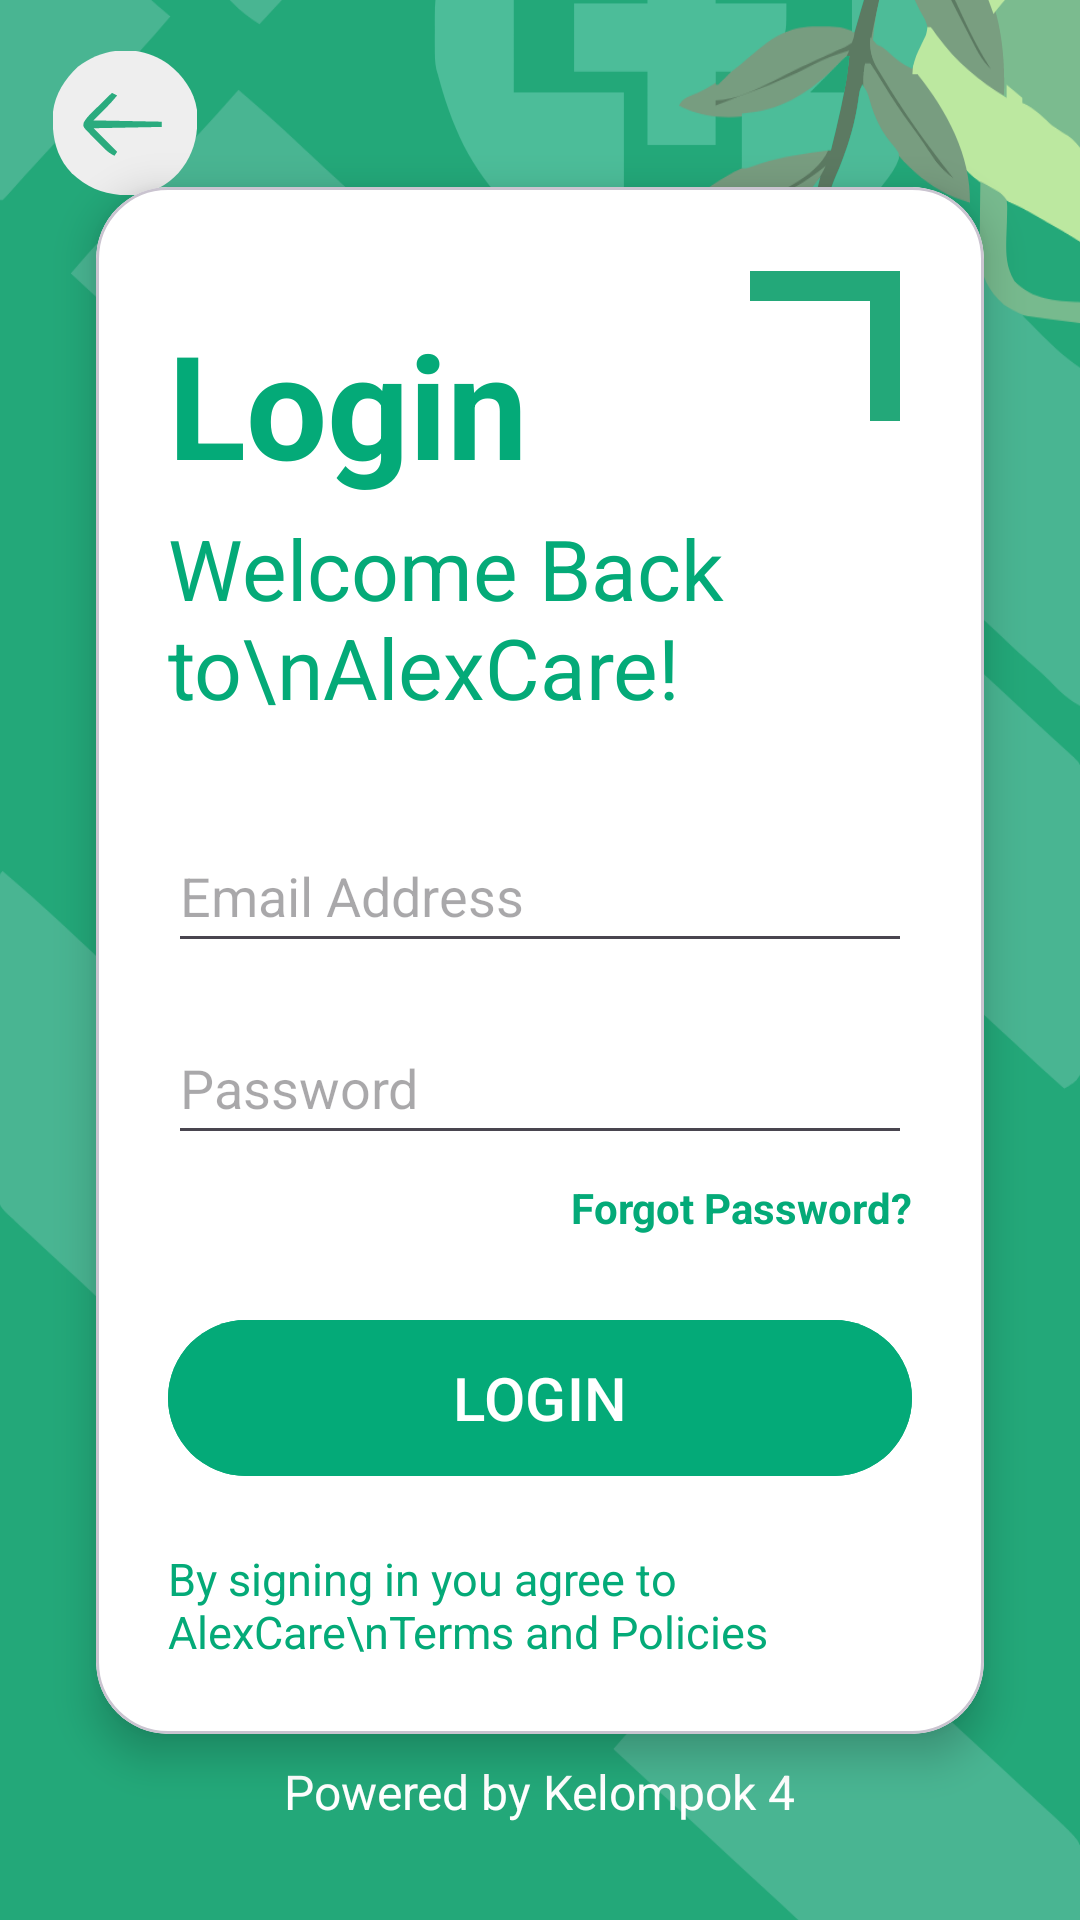

Where to tap for icons on this 1080 x 1920 app screen, as (x,y):
arrow back: (123,123)
